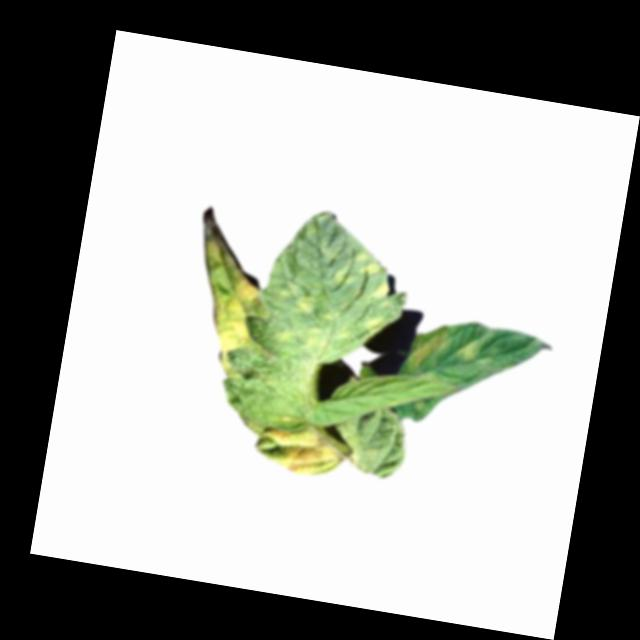Leaf_Mold: (255, 203, 404, 375), (184, 233, 269, 380), (260, 417, 348, 482), (408, 316, 453, 375), (458, 336, 482, 367)
